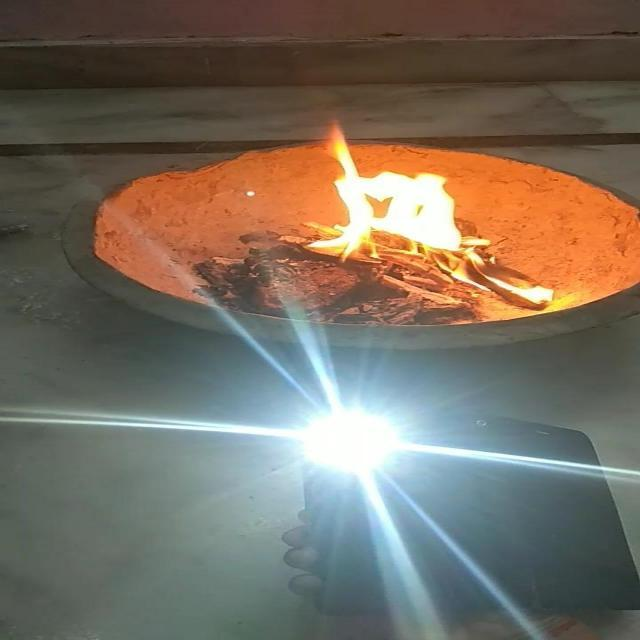fire: (269, 115, 557, 318)
smoke: (225, 343, 495, 527)
